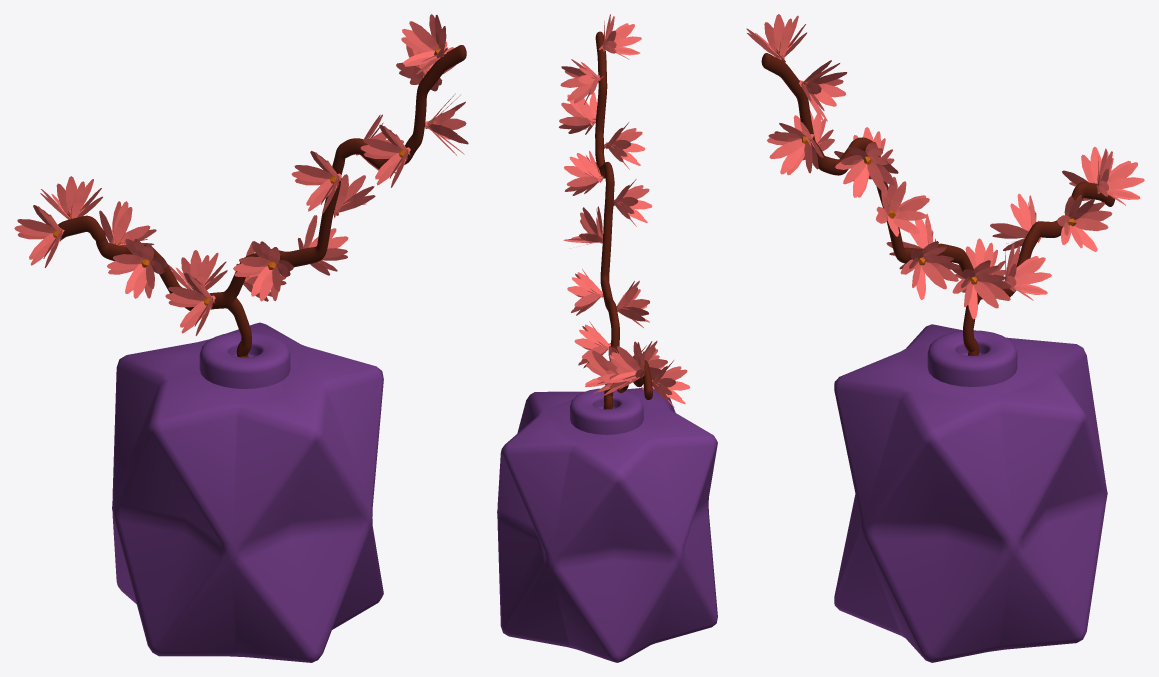
The model's file is flower pot.obj.
3 views of the same model, side by side, from view 1: azimuth 30°, elevation 25°; view 2: azimuth 150°, elevation 25°; view 3: azimuth 270°, elevation 25° (orthographic). The views are drawn at different scales.
Parts seen in each view (by area): view 1: star_vase, flowers, stebel; view 2: star_vase, flowers, stebel; view 3: star_vase, flowers, stebel.
Part boxes in pixels (x1=…): star_vase: x1=112, y1=322, x2=383, y2=662; flowers: x1=14, y1=14, x2=468, y2=335; stebel: x1=58, y1=45, x2=466, y2=357; star_vase: x1=497, y1=387, x2=717, y2=662; flowers: x1=559, y1=14, x2=690, y2=407; stebel: x1=595, y1=31, x2=652, y2=409; star_vase: x1=834, y1=324, x2=1107, y2=662; flowers: x1=746, y1=14, x2=1144, y2=319; stebel: x1=761, y1=53, x2=1115, y2=355.
Bounding box in the file's own units: 2.4 × 5.1 × 2.84.
